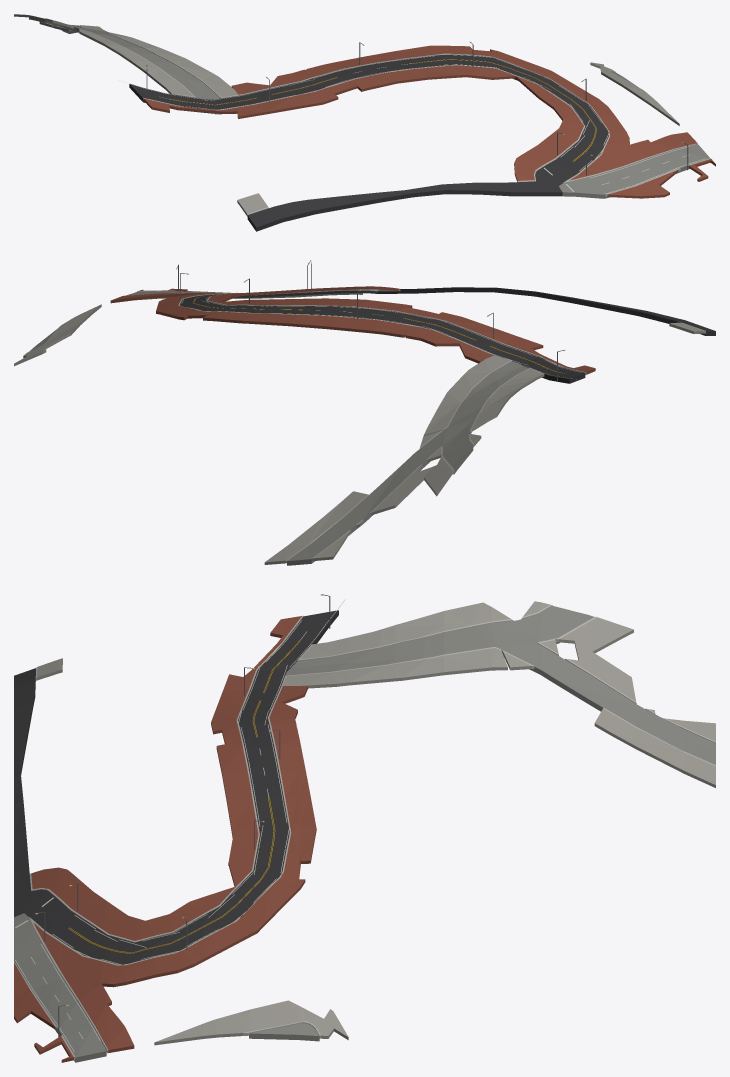
The picture shows the model from 3 angles, top to bottom: view 1: azimuth 30°, elevation 25°; view 2: azimuth 150°, elevation 25°; view 3: azimuth 270°, elevation 25°; orthographic projection. The views are drawn at different scales.
Bounding box in the file's own units: 149 × 41.05 × 146.
